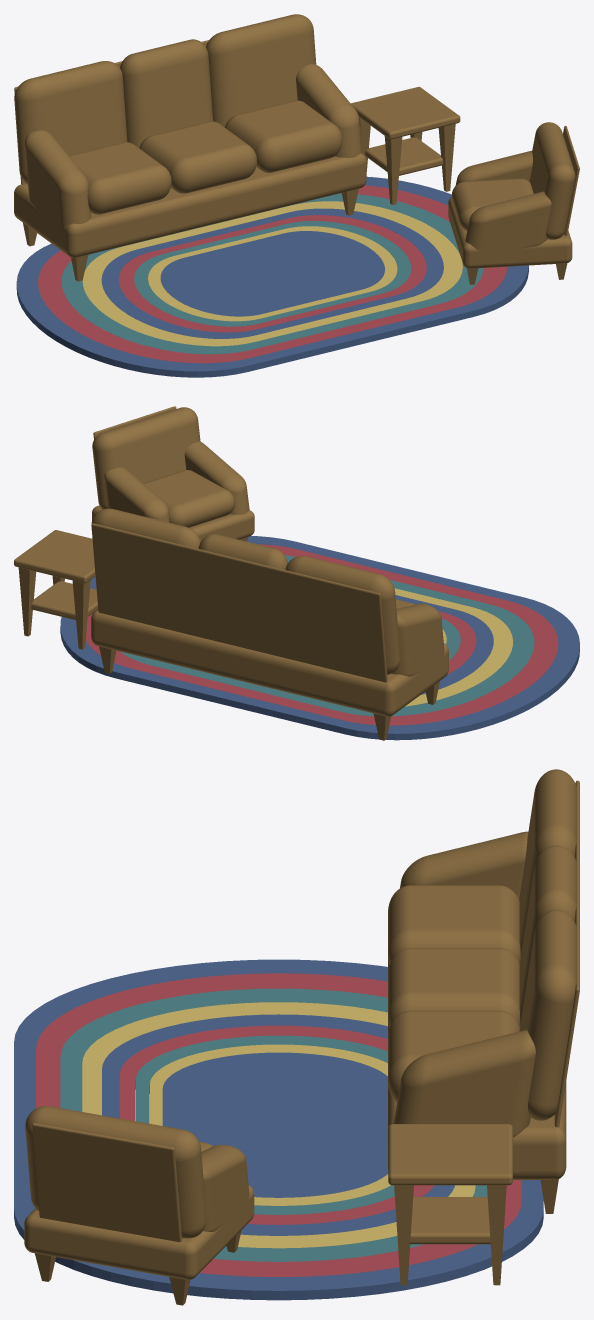
File: lounge(1).glb
The picture shows the model from 3 angles, top to bottom: view 1: azimuth 30°, elevation 25°; view 2: azimuth 150°, elevation 25°; view 3: azimuth 270°, elevation 25°; orthographic projection. The views are drawn at different scales.
Visible parts, largest first — view 1: Mesh_Mesh_head_geo.001_lambert2SG.001; view 2: Mesh_Mesh_head_geo.001_lambert2SG.001; view 3: Mesh_Mesh_head_geo.001_lambert2SG.001.
Boxes of the visible parts, box(x1,y1,x2,y2) form: Mesh_Mesh_head_geo.001_lambert2SG.001: box(14, 14, 579, 377); Mesh_Mesh_head_geo.001_lambert2SG.001: box(14, 406, 579, 740); Mesh_Mesh_head_geo.001_lambert2SG.001: box(14, 769, 579, 1305).
Size of the model in its own units: 0.081 by 0.027 by 0.0545.
